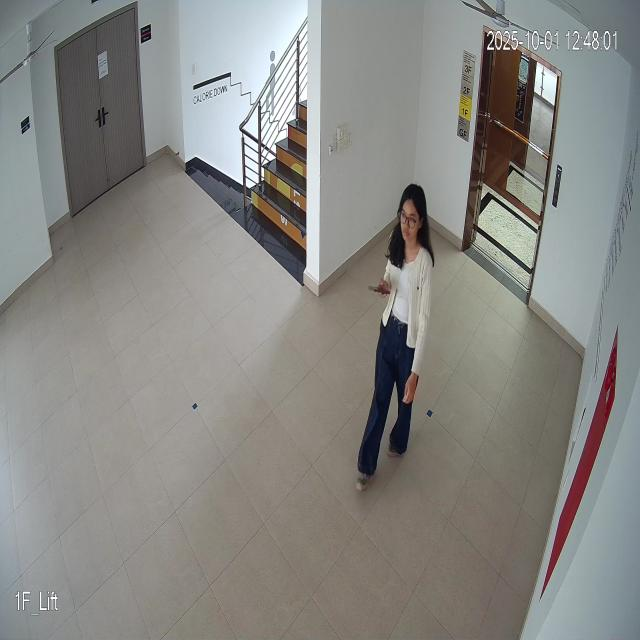face: (398, 179, 426, 253)
